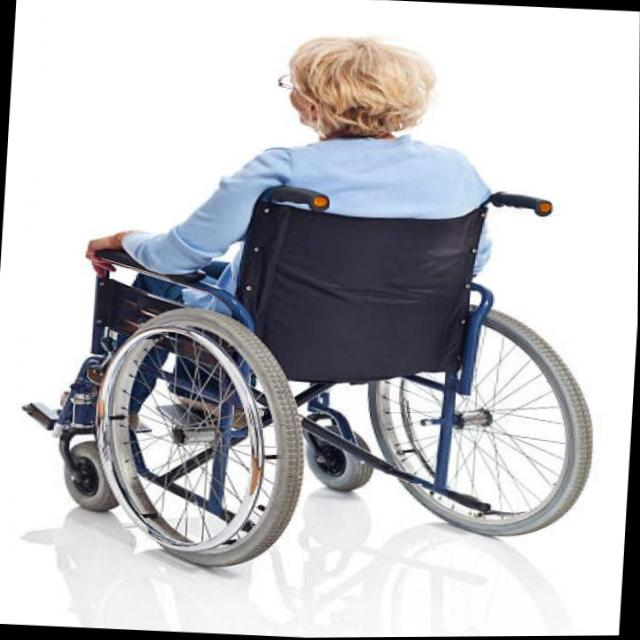no helmet: (276, 19, 468, 179)
